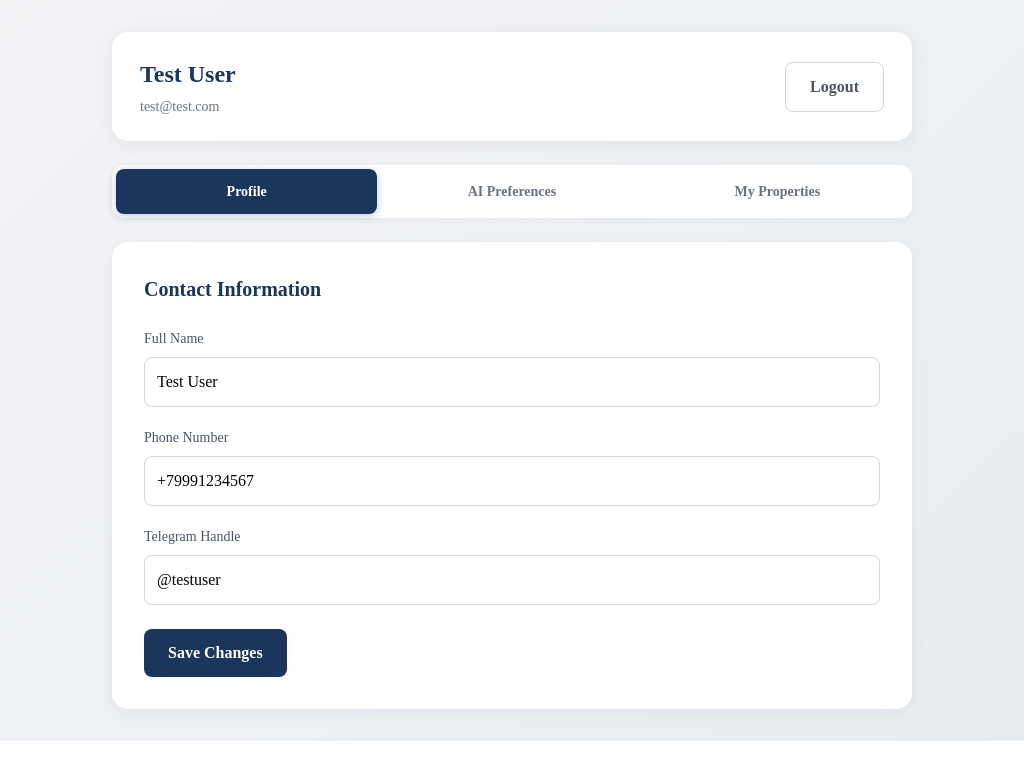
Test: Profile Page › Profile form › shows error when full name is empty on submit
Clear the field with placeholder "John Doe" below "Full Name": (512,382) [144,357,880,407]
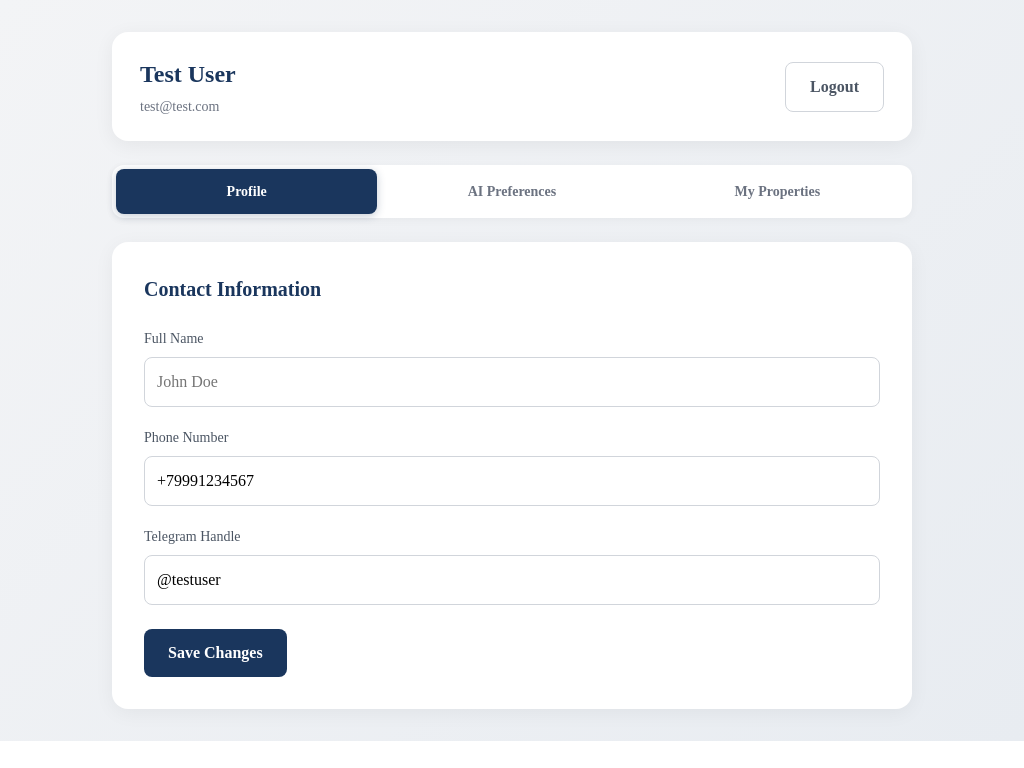
Click the button "Save Changes": (215,653) [144,629,287,677]
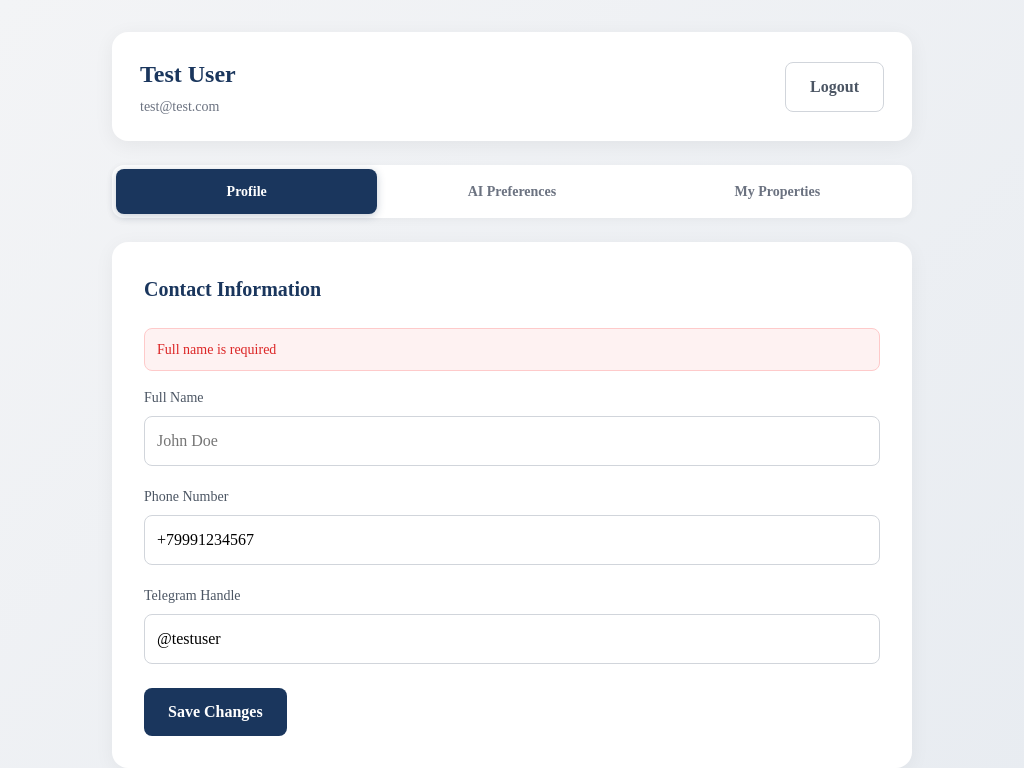
Expected: the text "Full name is required" is shown, [144,328,880,371]
